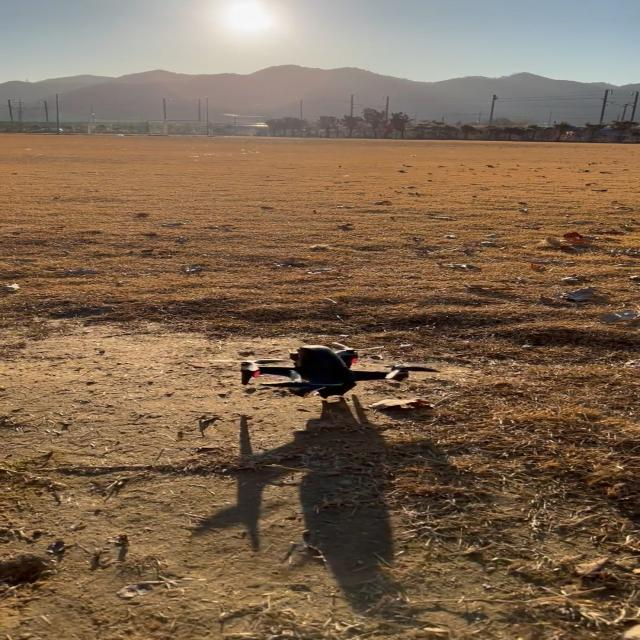drone: (210, 340, 444, 394)
